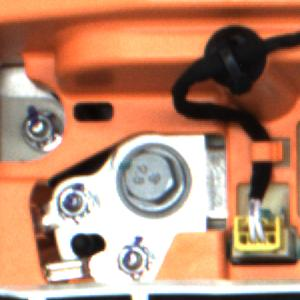nut_b: (116, 138, 195, 220)
screw_s: (113, 245, 159, 284), (52, 182, 91, 222), (17, 110, 56, 145)
